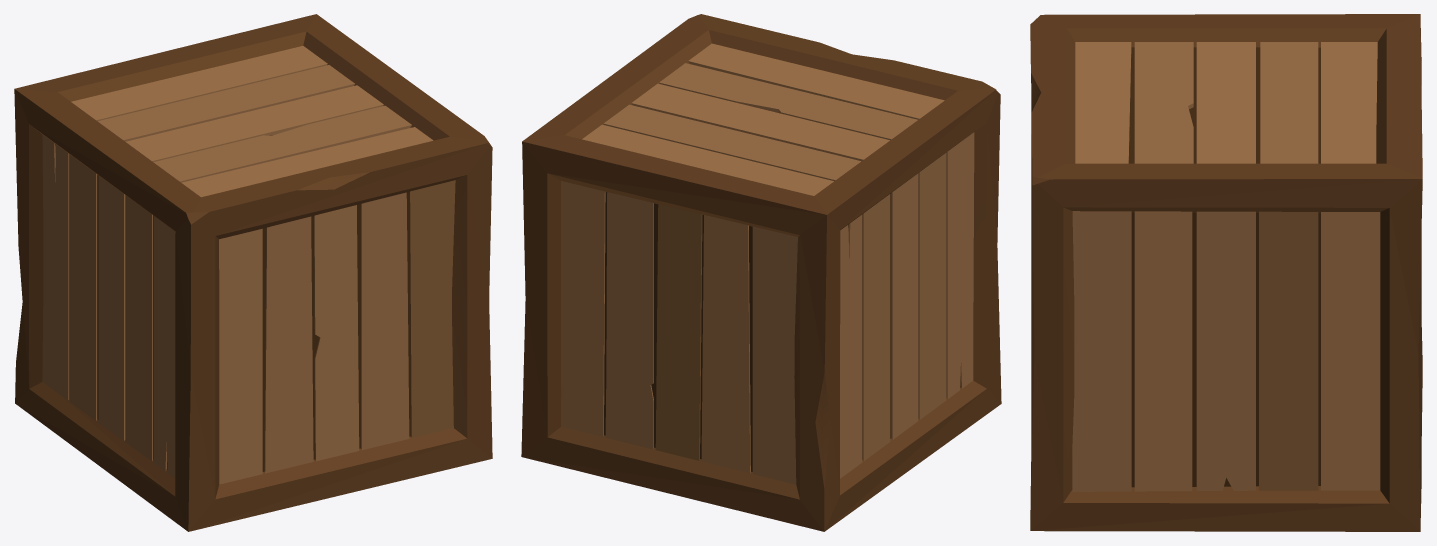
File: SM_Props_Box_01.glb
3 views of the same model, side by side, from view 1: azimuth 30°, elevation 25°; view 2: azimuth 150°, elevation 25°; view 3: azimuth 270°, elevation 25° (orthographic). The views are drawn at different scales.
Parts seen in each view (by area): view 1: SM_Props_Box_01; view 2: SM_Props_Box_01; view 3: SM_Props_Box_01.
Part boxes in pixels (bbox=[...]): SM_Props_Box_01: bbox=[14, 14, 492, 531]; SM_Props_Box_01: bbox=[521, 14, 1001, 531]; SM_Props_Box_01: bbox=[1030, 14, 1422, 531].
Size of the model in its own units: 0.9438 by 0.9395 by 0.944.
1 material, 1 textured.
